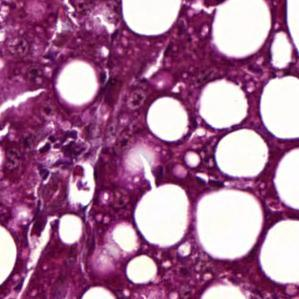steatosis: (215, 127, 270, 179), (260, 218, 299, 284), (121, 0, 182, 38), (147, 97, 190, 143), (0, 226, 16, 288)
